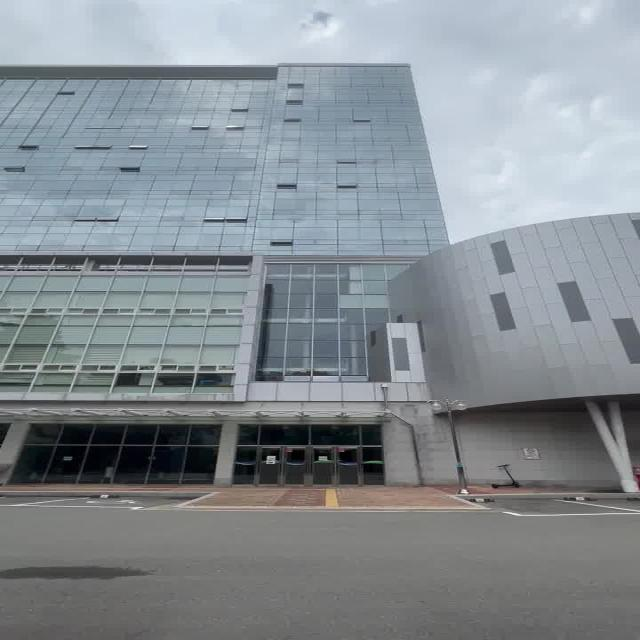building: (0, 24, 459, 482)
